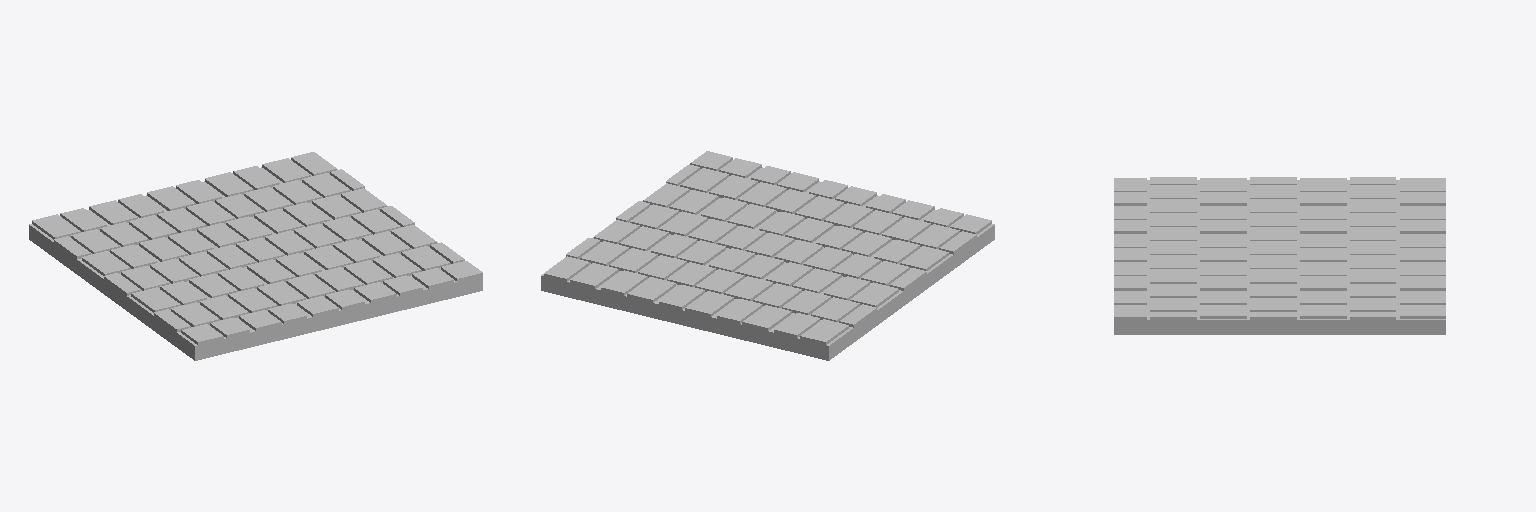
Rendered from floor.obj.
3 views of the same model, side by side, from view 1: azimuth 30°, elevation 25°; view 2: azimuth 150°, elevation 25°; view 3: azimuth 270°, elevation 25° (orthographic).
Parts seen in each view (by area): view 1: object 1; view 2: object 1; view 3: object 1.
Part boxes in pixels (x1,y1,x2,y2): object 1: (29,152,482,360); object 1: (541,151,994,360); object 1: (1114,177,1445,334).
Bounding box in the file's own units: 10 × 0.6 × 10.